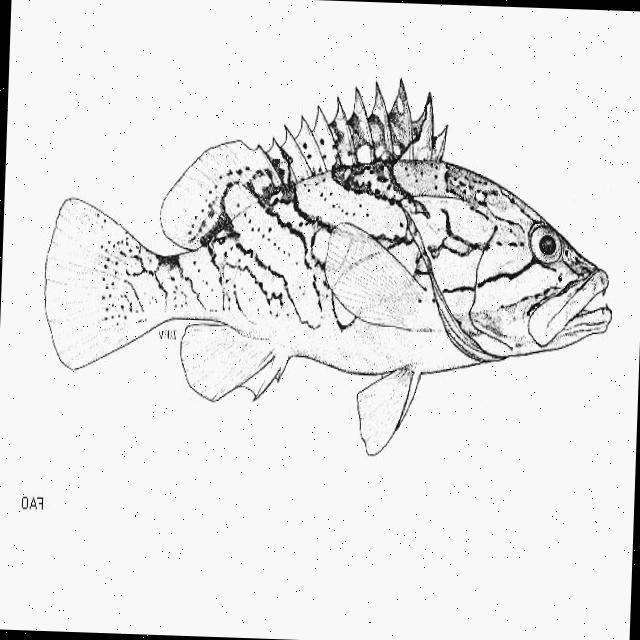ikan: (38, 64, 620, 464)
